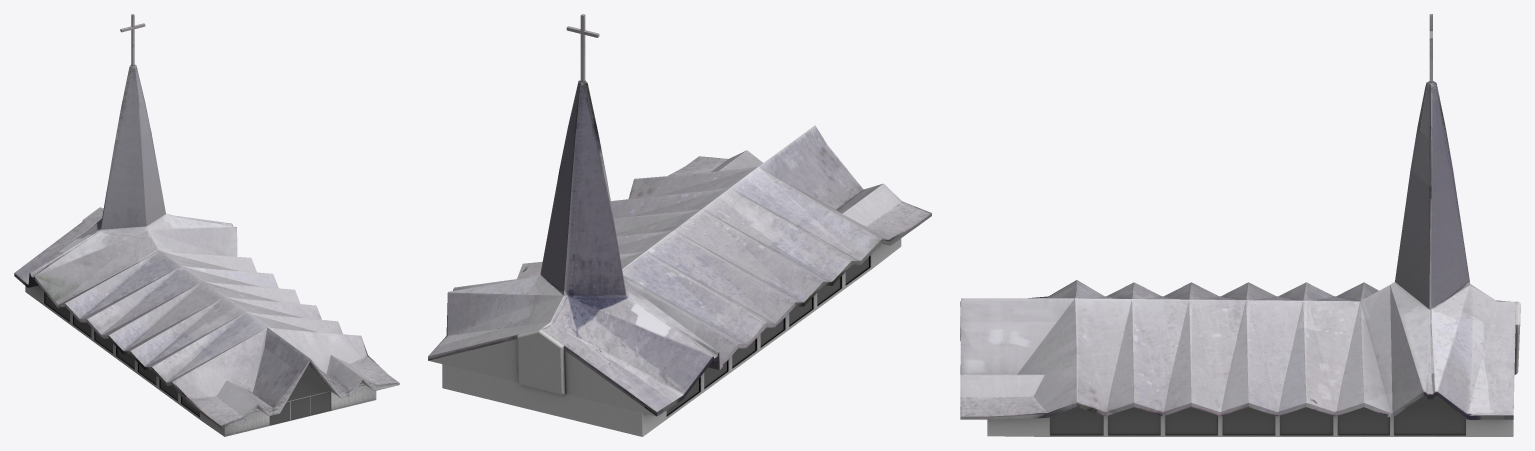
The model's file is qr3_IGLESIA.glb.
3 views of the same model, side by side, from view 1: azimuth 30°, elevation 25°; view 2: azimuth 150°, elevation 25°; view 3: azimuth 270°, elevation 25° (orthographic). The views are drawn at different scales.
Parts seen in each view (by area): view 1: IglesiaTecho, ParedAdelante.001, Iglesia_Base, ParedAdelante; view 2: IglesiaTecho, Iglesia_Base, ParedAdelante.001; view 3: IglesiaTecho, ParedAdelante.001, Iglesia_Base.
Boxes of the visible parts, bbox=[...] form: IglesiaTecho: bbox=[14, 14, 399, 428]; ParedAdelante.001: bbox=[45, 293, 361, 425]; Iglesia_Base: bbox=[25, 207, 330, 436]; ParedAdelante: bbox=[224, 366, 376, 436]; IglesiaTecho: bbox=[428, 14, 931, 416]; Iglesia_Base: bbox=[429, 238, 901, 436]; ParedAdelante.001: bbox=[666, 257, 868, 414]; IglesiaTecho: bbox=[960, 14, 1516, 419]; ParedAdelante.001: bbox=[1050, 396, 1465, 434]; Iglesia_Base: bbox=[987, 301, 1520, 436].
Bounding box in the file's own units: 1.99 × 2.65 × 3.61.
4 materials, 4 textured.
